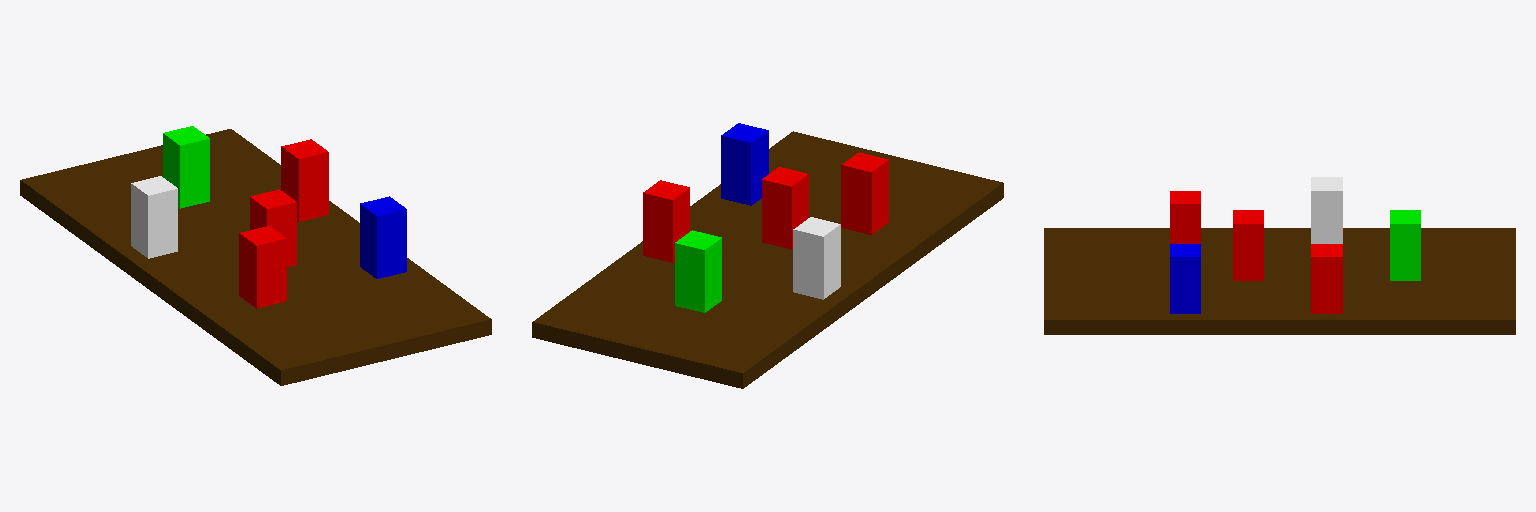
URDF robot description (workstation):
<?xml version="1.0"?>
<robot name="workstation">

   <material name="Brown">
     <color rgba="0.33 0.21 0.04 1"/>
   </material>

   <material name="White">
    <color rgba="1 1 1 1"/>
   </material>

   <material name="Grey">
    <color rgba=".3 .3 .3 1"/>
   </material>

    <material name="Red">
     <color rgba="1 0 0 1"/>
    </material>

    <material name="Green">
     <color rgba="0 1 0 1"/>
    </material>

    <material name="Blue">
     <color rgba="0 0 1 1"/>
    </material>

   <link name="ground">
   	<inertial>
   		<mass value=".5" />
   		<origin xyz="0 0 0" rpy="0 0 0"/>
		<inertia ixx="10"  ixy="0"  ixz="0" iyy="10" iyz="0" izz="10" />
   	</inertial>
  	<visual>
      <origin xyz="0 5 -0.25" rpy="0 0 0" />
      <geometry>
        <box size="7 15 0.5" />
      </geometry>
      <material name="Brown"/>
    </visual>
    <collision>
      <origin xyz="0 5 -0.25" rpy="0 0 0" />
      <geometry>
        <box size="7 15 0.5" />
      </geometry>
    </collision>
   </link>

   <link name="obs1">
   	<inertial>
   		<mass value=".5" />
   		<origin xyz="0 0 0" rpy="0 0 0"/>
		<inertia ixx="10"  ixy="0"  ixz="0" iyy="10" iyz="0" izz="10" />
   	</inertial>
  	<visual>
      <origin xyz="0 9 1" rpy="0 0 0" />
      <geometry>
        <box size="1 1 2" />
      </geometry>
      <material name="Green"/>
    </visual>
    <collision>
      <origin xyz="0 9 1" rpy="0 0 0" />
      <geometry>
        <box size="1 1 2" />
      </geometry>
      <material name="Green"/>
    </collision>
   </link>

   <link name="obs2">
   	<inertial>
   		<mass value=".5" />
   		<origin xyz="0 0 0" rpy="0 0 0"/>
		<inertia ixx="10"  ixy="0"  ixz="0" iyy="10" iyz="0" izz="10" />
   	</inertial>
  	<visual>
      <origin xyz="2.5 2 1" rpy="0 0 0" />
      <geometry>
        <box size="1 1 2" />
      </geometry>
      <material name="Blue"/>
    </visual>
    <collision>
      <origin xyz="2.5 2 1" rpy="0 0 0" />
      <geometry>
        <box size="1 1 2" />
      </geometry>
      <material name="Blue"/>
    </collision>
   </link>

   <link name="obs3">
   	<inertial>
   		<mass value=".5" />
   		<origin xyz="0 0 0" rpy="0 0 0"/>
		<inertia ixx="10"  ixy="0"  ixz="0" iyy="10" iyz="0" izz="10" />
   	</inertial>
  	<visual>
      <origin xyz="-1.5 2 1" rpy="0 0 0" />
      <geometry>
        <box size="1 1 2" />
      </geometry>
      <material name="Red"/>
    </visual>
    <collision>
      <origin xyz="-1.5 2 1" rpy="0 0 0" />
      <geometry>
        <box size="1 1 2" />
      </geometry>
      <material name="Red"/>
    </collision>
   </link>

   <link name="obs4">
   	<inertial>
   		<mass value=".5" />
   		<origin xyz="0 0 0" rpy="0 0 0"/>
		<inertia ixx="10"  ixy="0"  ixz="0" iyy="10" iyz="0" izz="10" />
   	</inertial>
  	<visual>
      <origin xyz="-2.5 6.5 1" rpy="0 0 0" />
      <geometry>
        <box size="1 1 2" />
      </geometry>
      <material name="White"/>
    </visual>
    <collision>
      <origin xyz="-2.5 6.5 1" rpy="0 0 0" />
      <geometry>
        <box size="1 1 2" />
      </geometry>
      <material name="White"/>
    </collision>
   </link>

   <link name="obs5">
   	<inertial>
   		<mass value=".5" />
   		<origin xyz="0 0 0" rpy="0 0 0"/>
		<inertia ixx="10"  ixy="0"  ixz="0" iyy="10" iyz="0" izz="10" />
   	</inertial>
  	<visual>
      <origin xyz="0 4 1" rpy="0 0 0" />
      <geometry>
        <box size="1 1 2" />
      </geometry>
      <material name="Red"/>
    </visual>
    <collision>
      <origin xyz="0 4 1" rpy="0 0 0" />
      <geometry>
        <box size="1 1 2" />
      </geometry>
      <material name="Red"/>
    </collision>
   </link>

   <link name="obs6">
   	<inertial>
   		<mass value=".5" />
   		<origin xyz="0 0 0" rpy="0 0 0"/>
		<inertia ixx="10"  ixy="0"  ixz="0" iyy="10" iyz="0" izz="10" />
   	</inertial>
  	<visual>
      <origin xyz="2.5 6.5 1" rpy="0 0 0" />
      <geometry>
        <box size="1 1 2" />
      </geometry>
      <material name="Red"/>
    </visual>
    <collision>
      <origin xyz="2.5 6.5 1" rpy="0 0 0" />
      <geometry>
        <box size="1 1 2" />
      </geometry>
      <material name="Red"/>
    </collision>
   </link>

		<joint name="obs1_to_ground" type="fixed">
			<parent link="ground"/>
			<child link="obs1"/>
			<origin xyz="0 0 0"/>
		</joint>

		<joint name="obs2_to_ground" type="fixed">
			<parent link="ground"/>
			<child link="obs2"/>
			<origin xyz="0 0 0"/>
		</joint>
			
		<joint name="obs3_to_ground" type="fixed">
			<parent link="ground"/>
			<child link="obs3"/>
			<origin xyz="0 0 0"/>
		</joint>

		<joint name="obs4_to_ground" type="fixed">
			<parent link="ground"/>
			<child link="obs4"/>
			<origin xyz="0 0 0"/>
		</joint>

		<joint name="obs5_to_ground" type="fixed">
			<parent link="ground"/>
			<child link="obs5"/>
			<origin xyz="0 0 0"/>
		</joint>

		<joint name="obs6_to_ground" type="fixed">
			<parent link="ground"/>
			<child link="obs6"/>
			<origin xyz="0 0 0"/>
		</joint>


</robot>

--- Facts derived from the render (not from the file) ---
The picture shows the robot from 3 angles, left to right: view 1: azimuth 30°, elevation 25°; view 2: azimuth 150°, elevation 25°; view 3: azimuth 270°, elevation 25°; orthographic projection.
Robot: workstation — 7 links, 6 joints (6 fixed); root link ground; default pose: all joints at 0.
Links seen in each view (by area): view 1: ground, obs3, obs2, obs4, obs6, obs1, obs5; view 2: ground, obs3, obs4, obs1, obs2, obs6, obs5; view 3: ground, obs6, obs1, obs5, obs2, obs4, obs3.
Boxes of the visible links, x1=… form: ground: x1=20, y1=129, x2=491, y2=385; obs3: x1=239, y1=226, x2=286, y2=308; obs2: x1=360, y1=196, x2=406, y2=278; obs4: x1=131, y1=176, x2=177, y2=258; obs6: x1=281, y1=139, x2=328, y2=221; obs1: x1=163, y1=126, x2=209, y2=208; obs5: x1=250, y1=189, x2=296, y2=266; ground: x1=532, y1=131, x2=1003, y2=388; obs3: x1=841, y1=152, x2=888, y2=234; obs4: x1=793, y1=217, x2=840, y2=299; obs1: x1=675, y1=230, x2=721, y2=312; obs2: x1=721, y1=123, x2=768, y2=205; obs6: x1=643, y1=180, x2=689, y2=262; obs5: x1=762, y1=167, x2=808, y2=249; ground: x1=1044, y1=228, x2=1515, y2=334; obs6: x1=1311, y1=244, x2=1342, y2=313; obs1: x1=1390, y1=210, x2=1420, y2=280; obs5: x1=1233, y1=210, x2=1263, y2=280; obs2: x1=1170, y1=244, x2=1200, y2=313; obs4: x1=1311, y1=177, x2=1342, y2=243; obs3: x1=1170, y1=191, x2=1200, y2=243.
Size in the robot's own frame: 7 by 15 by 2.5 metres.
Geometry: primitives only (box / cylinder / sphere), no mesh files.
